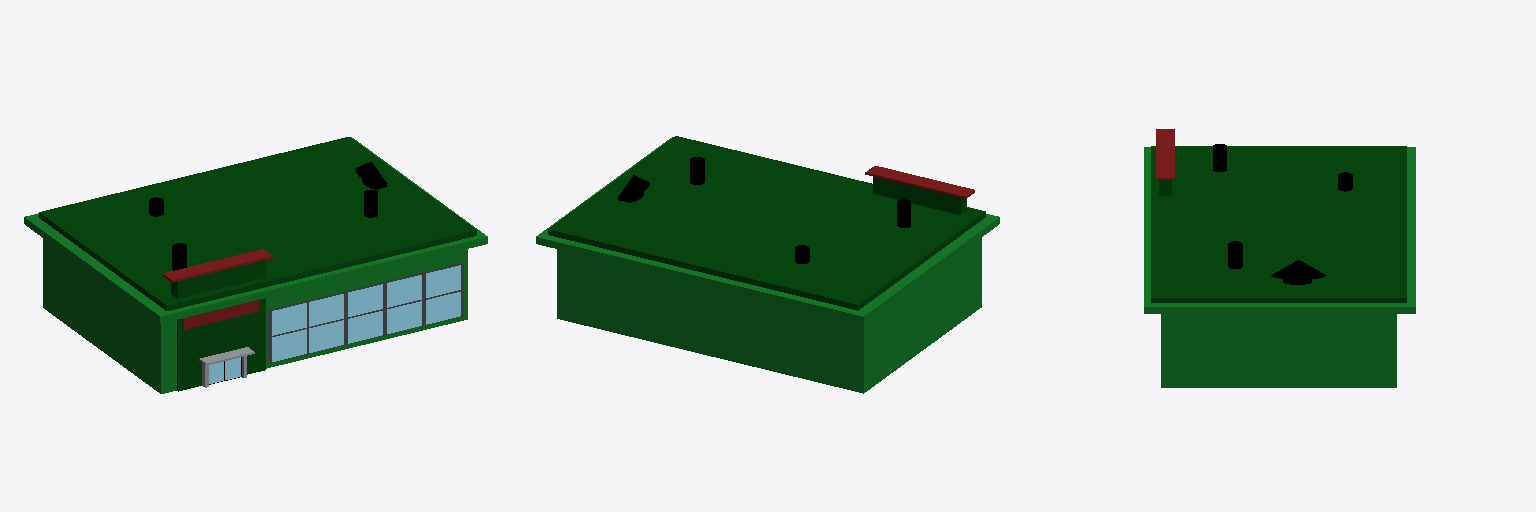
The model's file is Food_Medium.obj.
3 renders of one model, left to right at view 1: azimuth 30°, elevation 25°; view 2: azimuth 150°, elevation 25°; view 3: azimuth 270°, elevation 25°, orthographic.
Visible parts, largest first — view 1: Food_Medium; view 2: Food_Medium; view 3: Food_Medium.
Part boxes in pixels (left/top/right/bottom): Food_Medium: left=24, top=137, right=487, bottom=393; Food_Medium: left=536, top=136, right=999, bottom=393; Food_Medium: left=1144, top=129, right=1415, bottom=387.
Size of the model in its own units: 32.05 by 10.76 by 23.11.